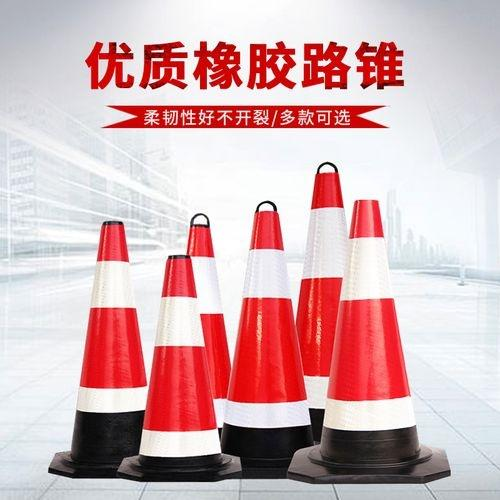cone_barrel: (309, 202, 431, 468), (215, 204, 308, 476), (59, 222, 146, 470), (135, 252, 229, 468), (253, 191, 332, 433), (295, 170, 347, 375), (184, 212, 230, 400)
